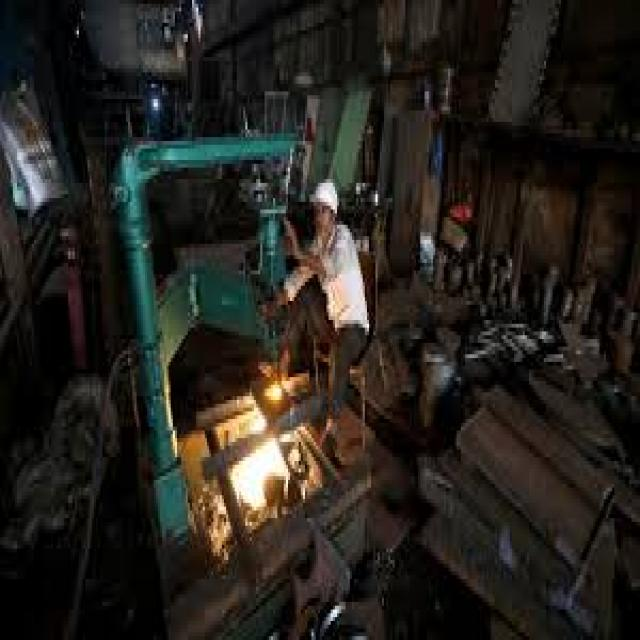Safety-Helmet: (307, 172, 346, 228)
